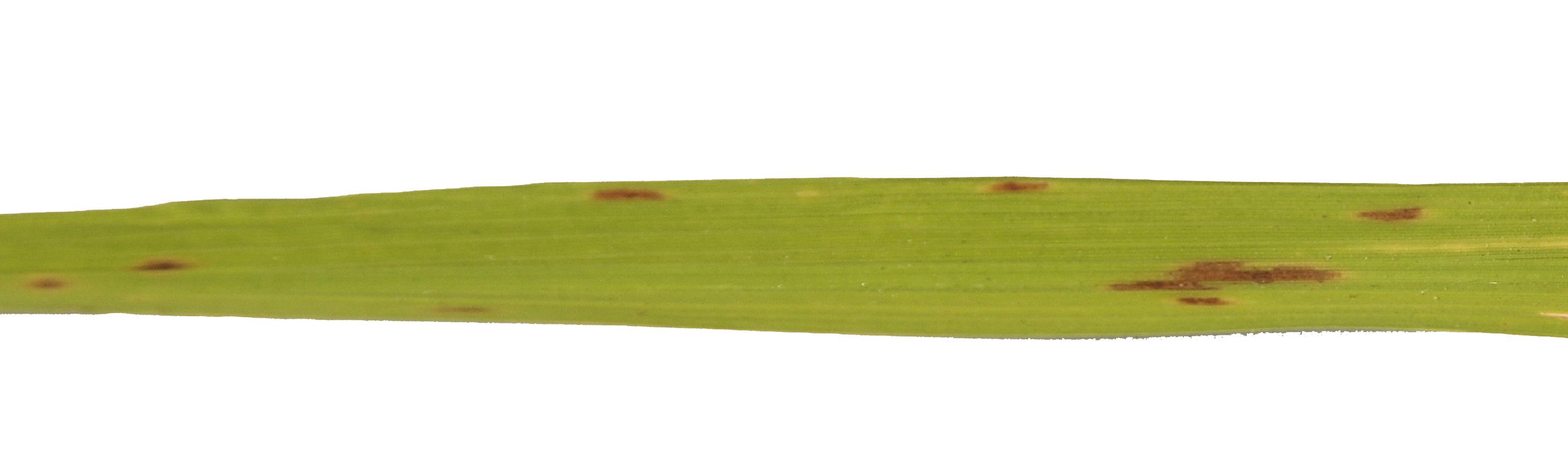Brown spot: (1116, 252, 1350, 307), (1355, 190, 1435, 236), (575, 181, 687, 212), (981, 180, 1062, 208), (120, 249, 198, 278), (31, 263, 81, 305)
